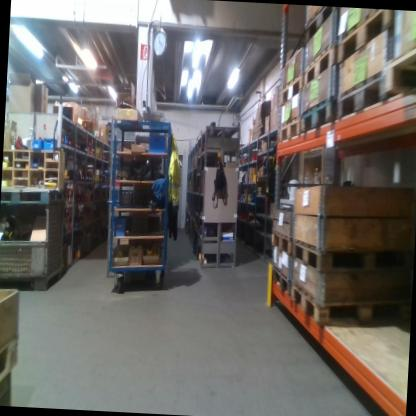pallet: (288, 280, 411, 326), (290, 234, 414, 274), (337, 8, 392, 68), (334, 71, 385, 123), (383, 42, 416, 98), (300, 95, 338, 142), (302, 43, 337, 89), (301, 6, 338, 49), (280, 69, 303, 107), (269, 265, 292, 302), (278, 110, 302, 142), (270, 228, 292, 254)
small_load_carrier: (148, 133, 166, 153)
stillage: (0, 194, 68, 298)
